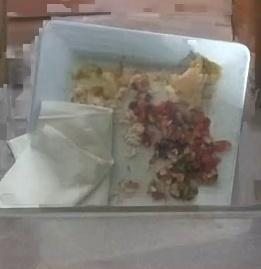taco_mix: (125, 52, 223, 200)
